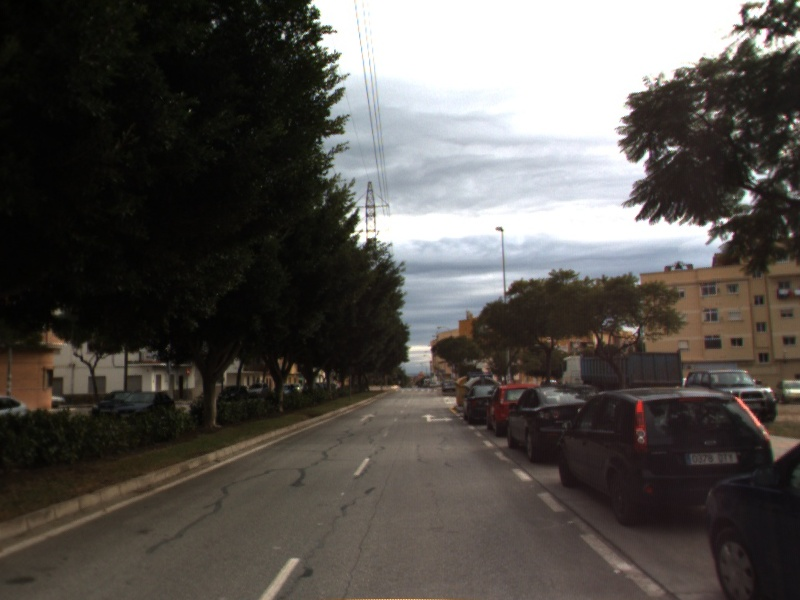STRAIGHT: (356, 411, 379, 424)
STRAIGHT_RIGHT: (419, 412, 456, 424)
